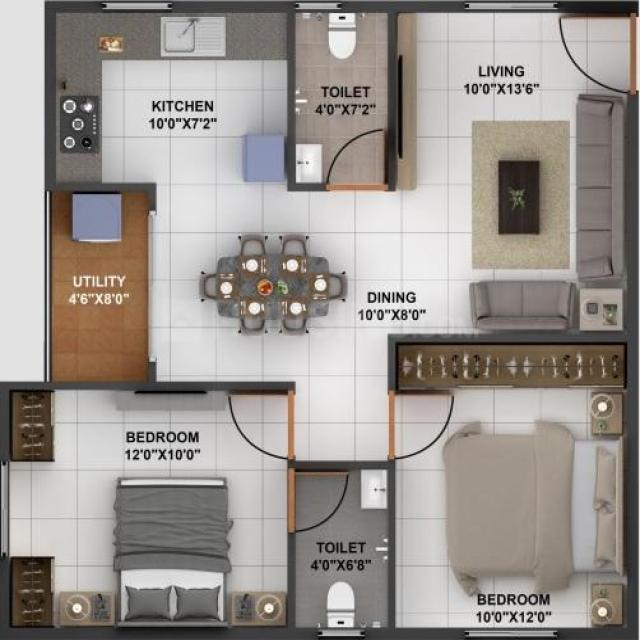Bedroom: (398, 347, 629, 632)
Bedroom with Toilet: (4, 385, 391, 635)
Dining: (200, 232, 354, 340)
Enterance-Foyer: (556, 9, 639, 95)
Kitchen: (52, 14, 287, 190)
Living: (396, 97, 633, 336)
Toilet: (293, 11, 390, 186), (292, 469, 389, 632)
Utility: (41, 190, 149, 380)
